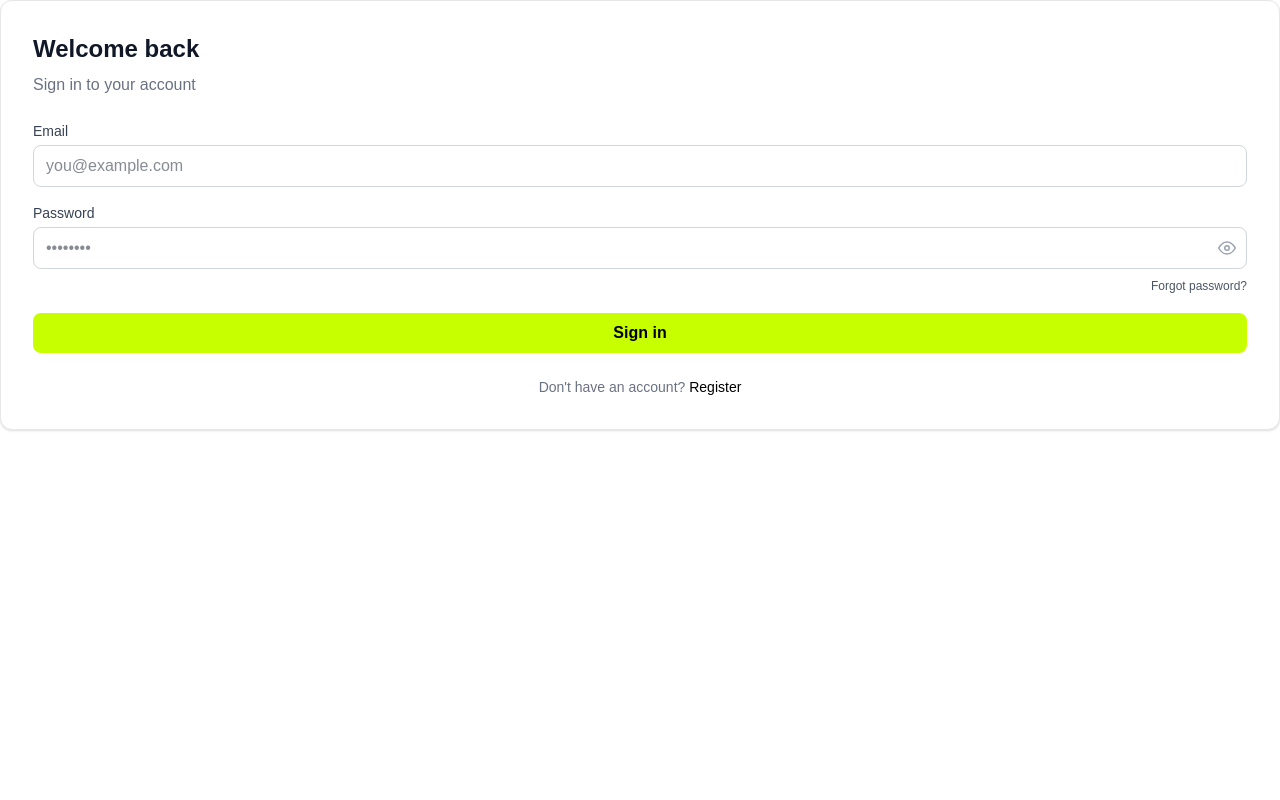
Test case: LoginForm › shows error message when login fails
Type "john@example.com" into the field with placeholder "you@example.com" at (640, 166), box [33,145,1247,187]
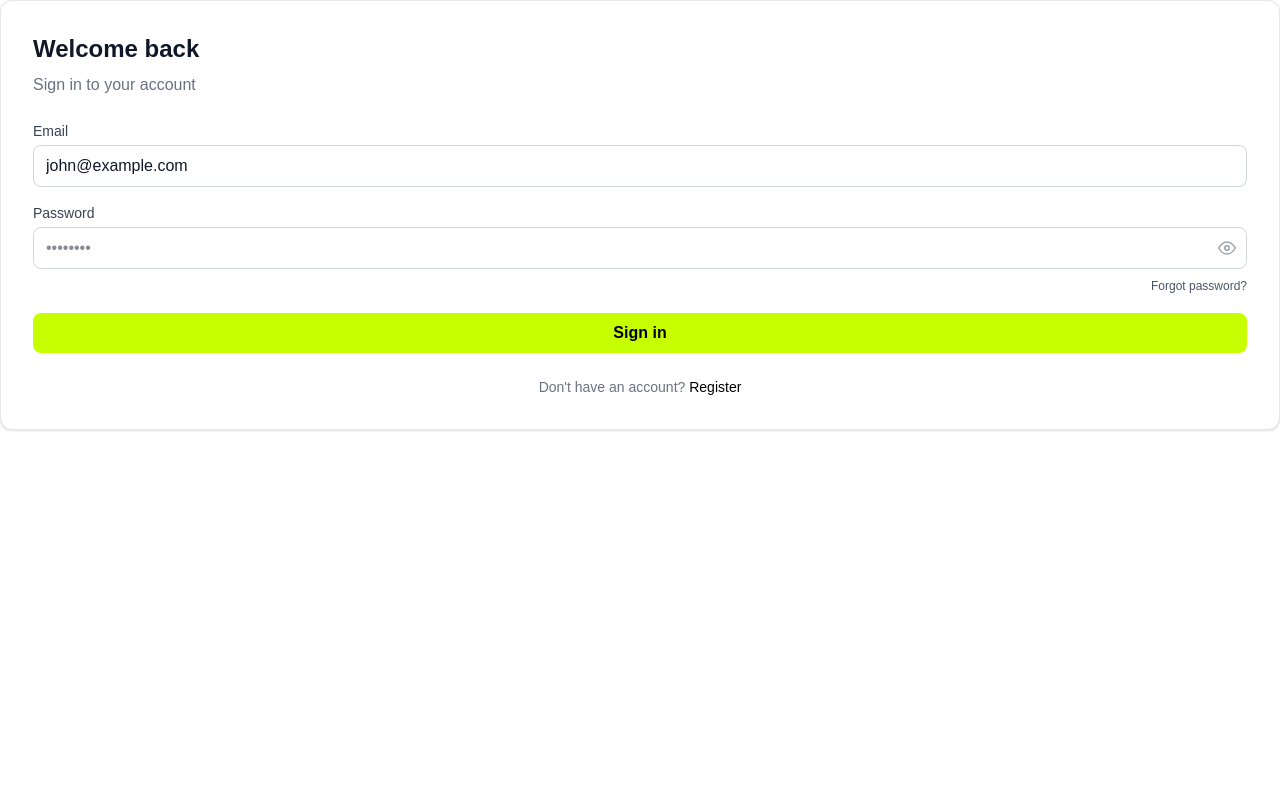
Type "12345678" into the password field with placeholder "••••••••" at (640, 248), box [33,227,1247,269]
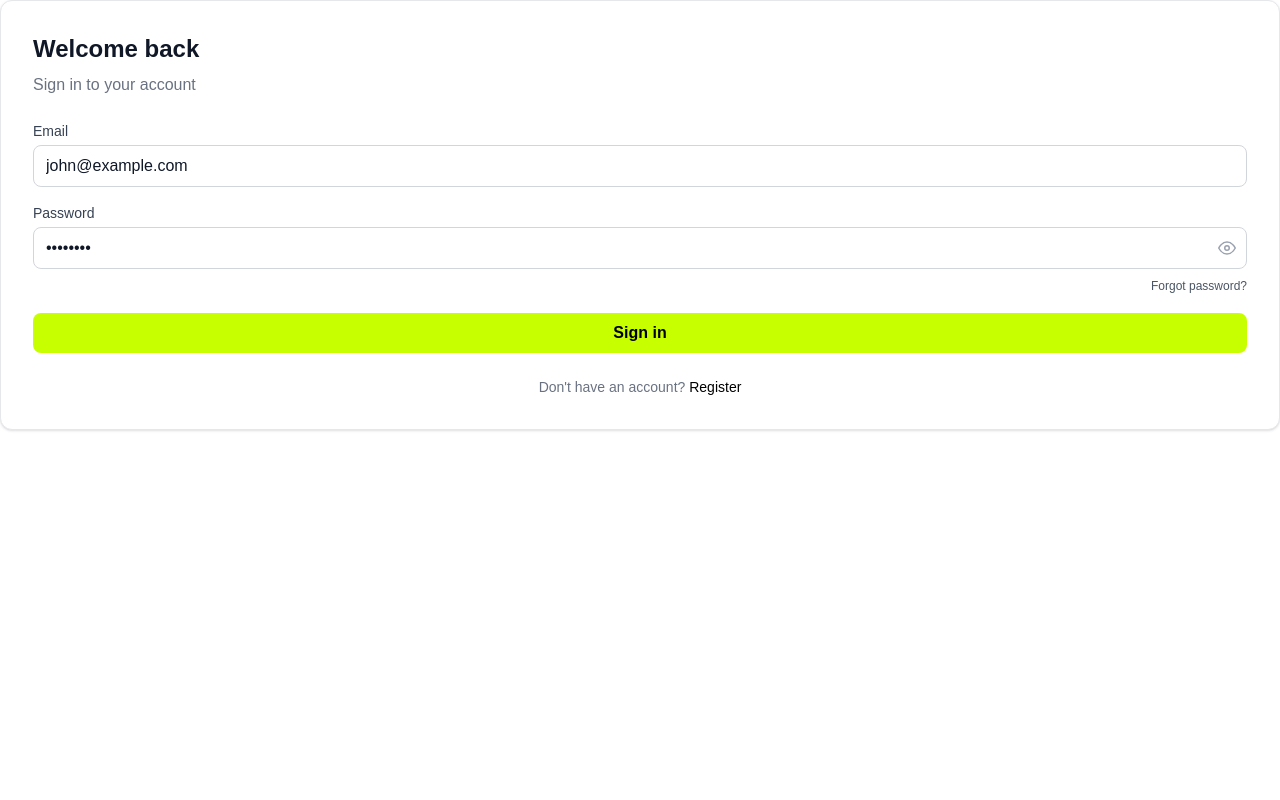
Click the button "Sign in" at (640, 333), box [33,313,1247,353]
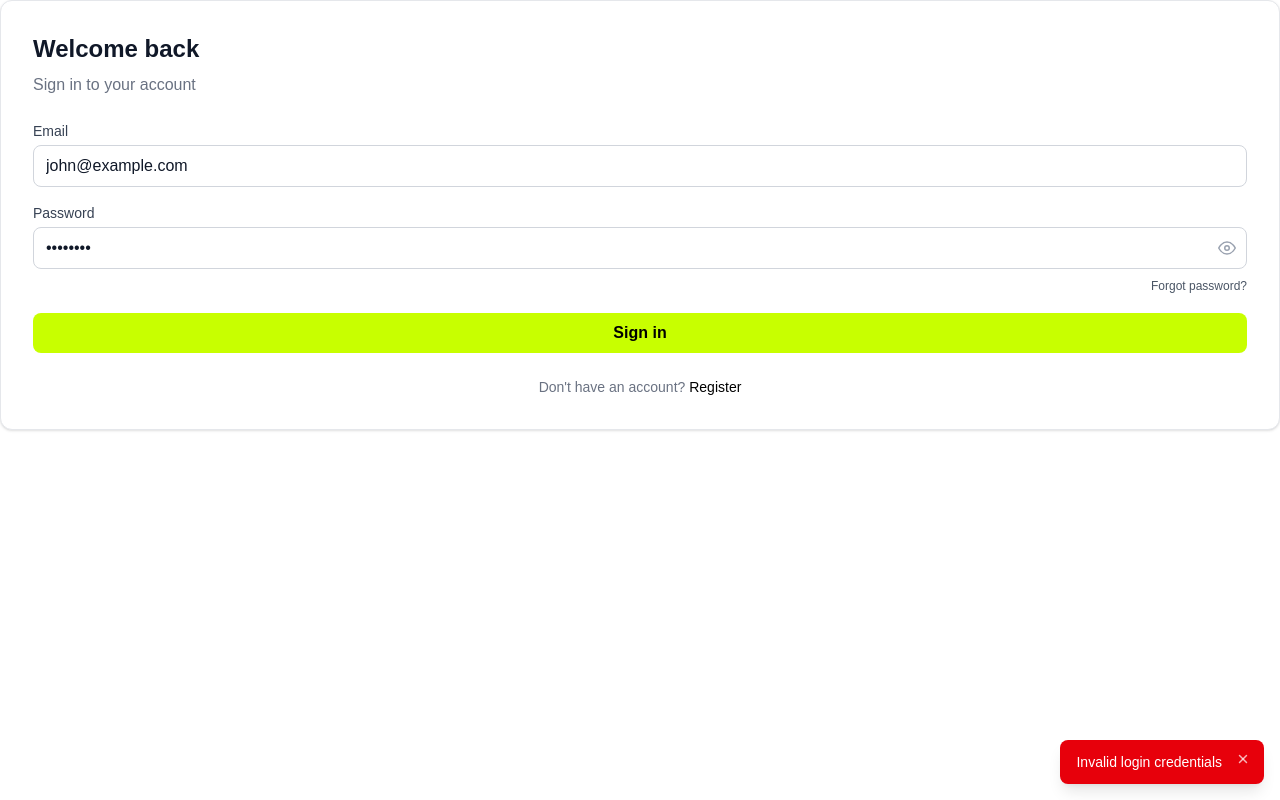
Result: the text "Invalid login credentials" is shown at [1076,752,1222,772]
